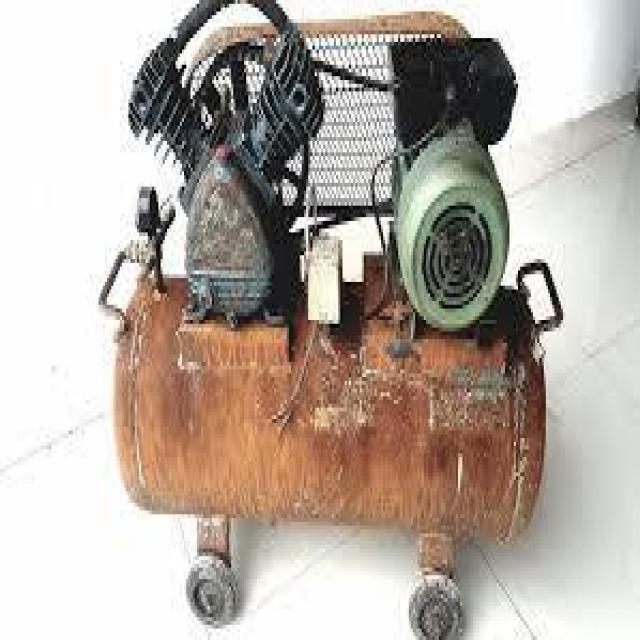compressor: (90, 0, 548, 629)
corrosion detected: (127, 332, 539, 512), (182, 148, 278, 328), (94, 179, 178, 328), (418, 198, 492, 312), (404, 568, 466, 636)
